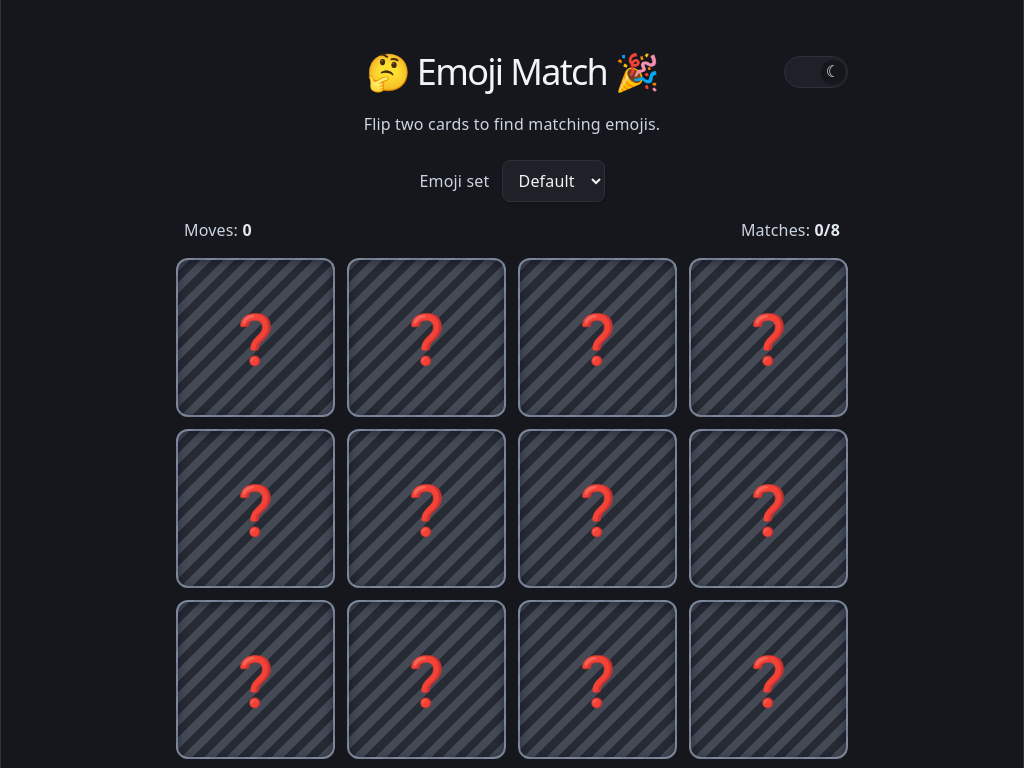
Test: App › uses system dark theme by default and toggles to light mode
Click the button named "Switch to light mode" at (816, 72), box [784,56,848,88]
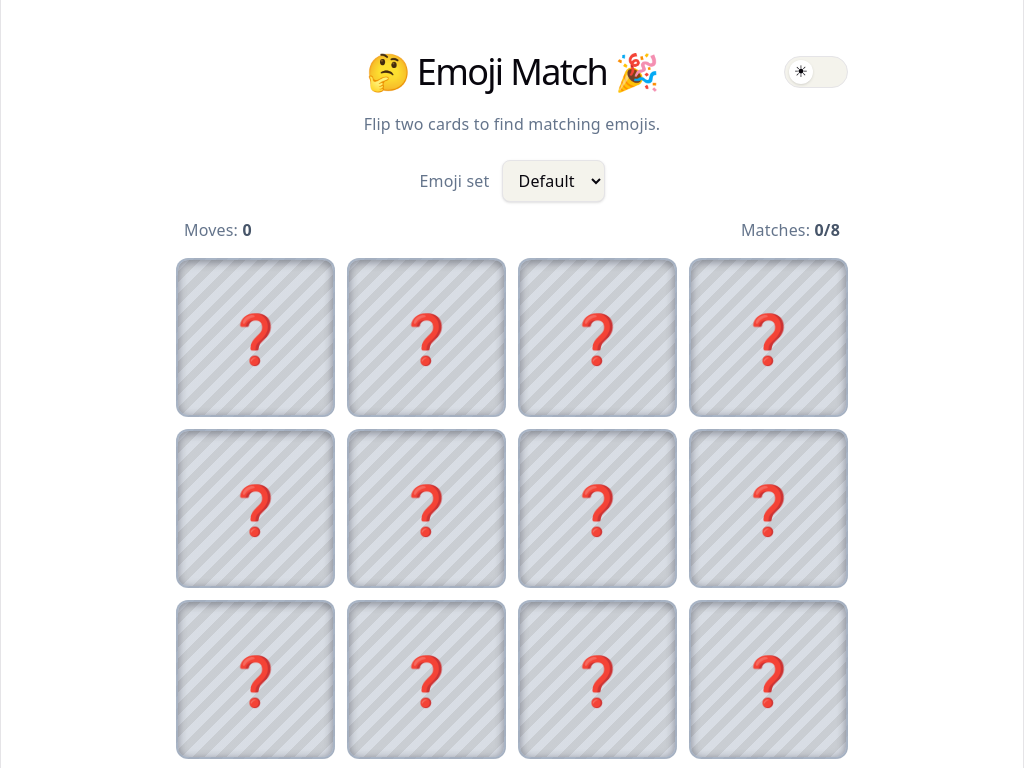
expect the button named "Switch to light mode" reads "☀": met, box [784,56,848,88]
